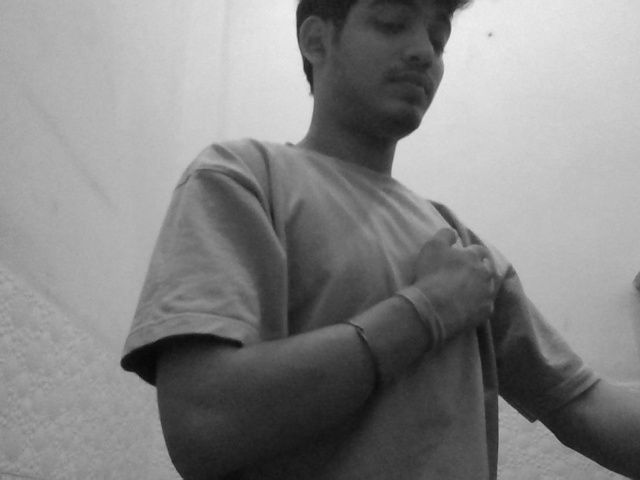Sorry: (360, 215, 530, 363)
